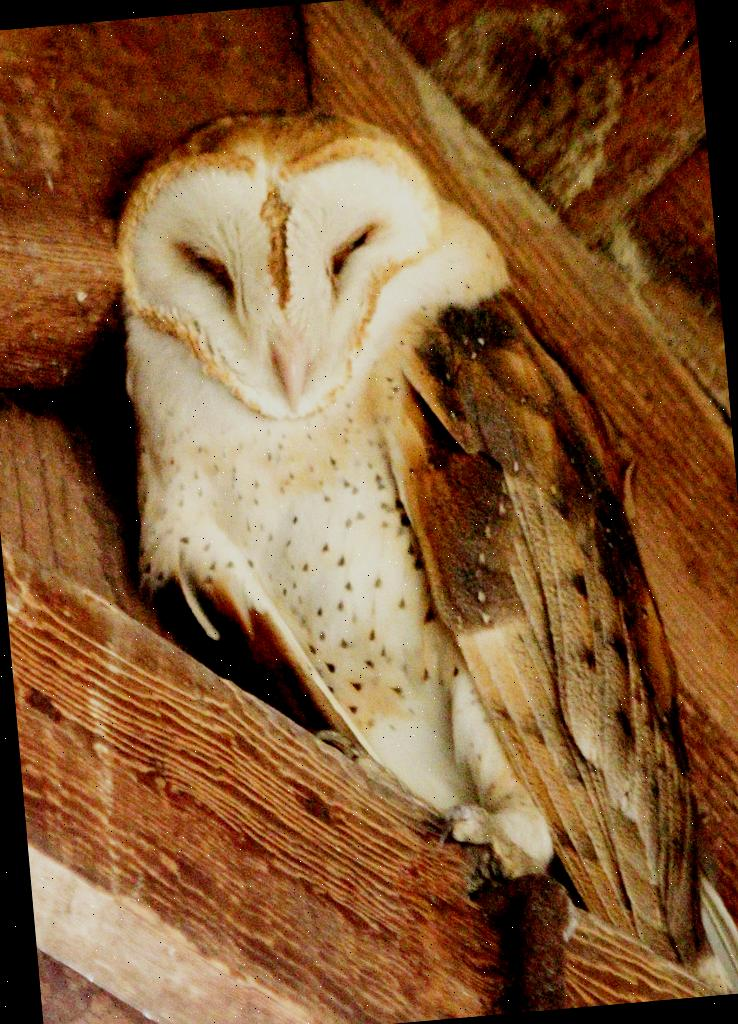Owl: (87, 70, 738, 1024)
